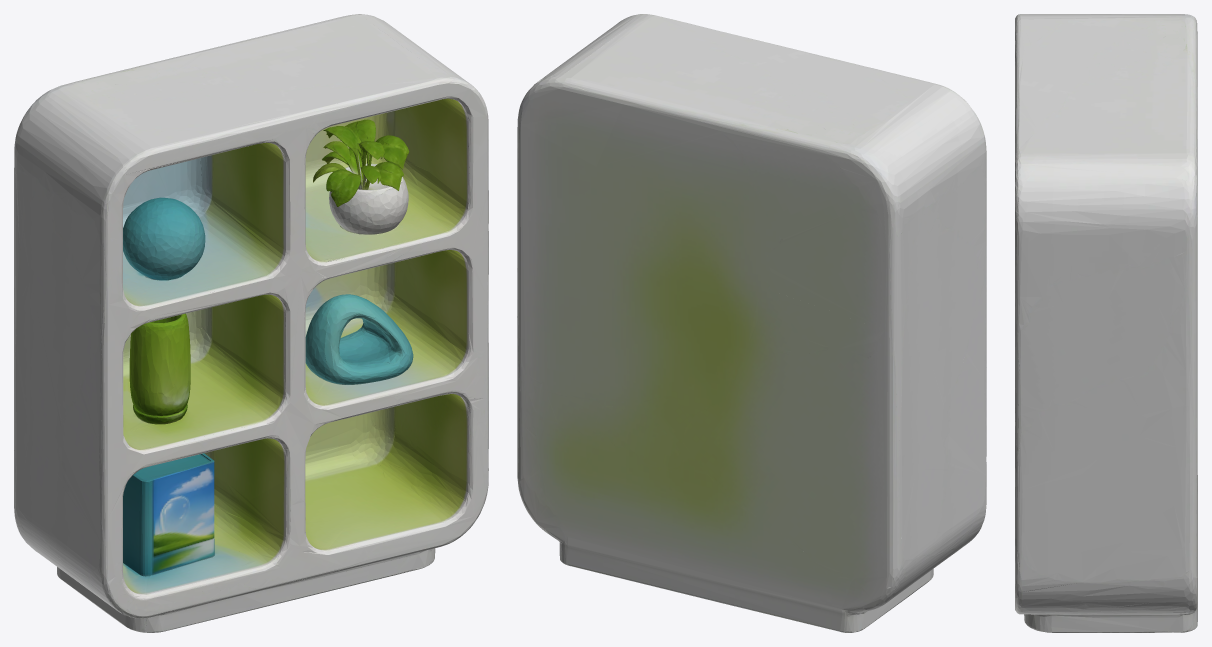
The model's file is deco-shelf.glb.
3 views of the same model, side by side, from view 1: azimuth 30°, elevation 25°; view 2: azimuth 150°, elevation 25°; view 3: azimuth 270°, elevation 25° (orthographic). The views are drawn at different scales.
Parts seen in each view (by area): view 1: material; view 2: material; view 3: material.
Part boxes in pixels (x1=…): material: x1=14, y1=14, x2=488, y2=632; material: x1=517, y1=14, x2=986, y2=632; material: x1=1015, y1=14, x2=1197, y2=632.
Bounding box in the file's own units: 0.7938 × 0.9583 × 0.3346.
1 material, 1 textured.
